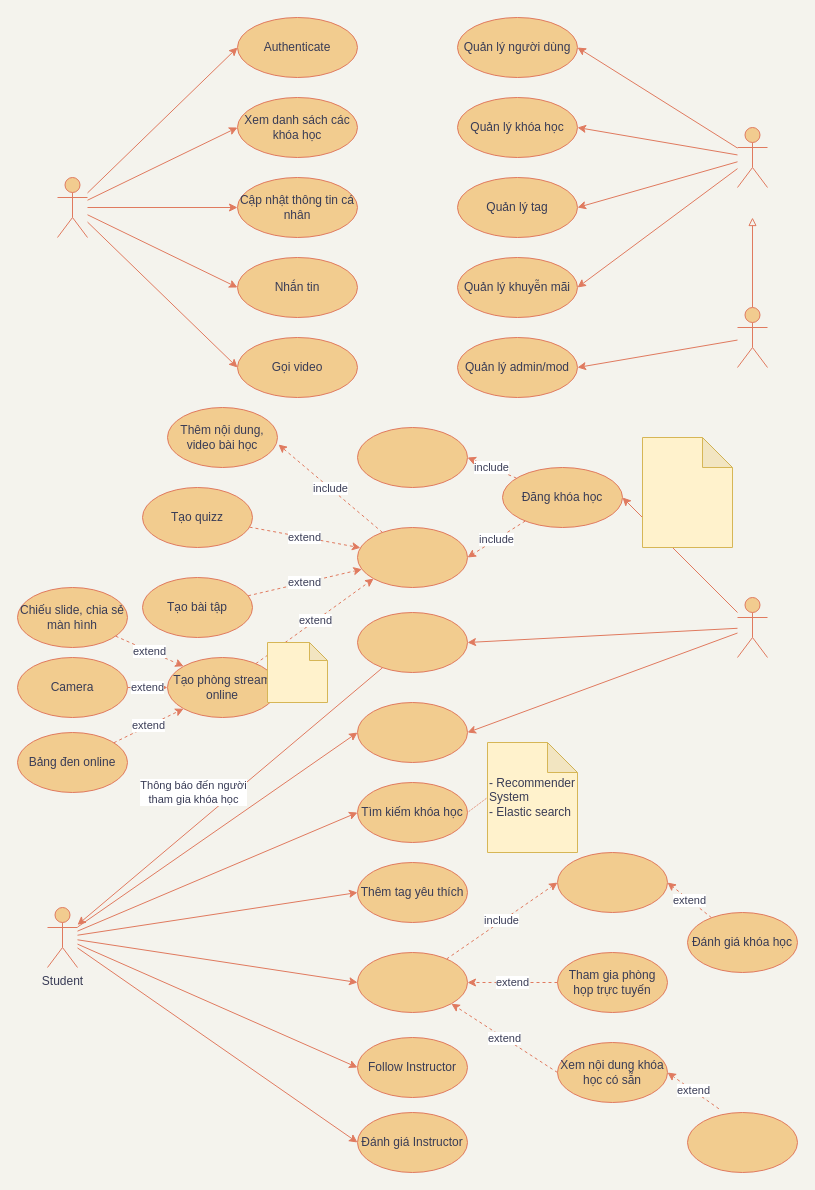
Some shapes in this 815 by 1190 pixel diagram are drawn without their labels. The shapes that lost their labels are listed below. From the top down, each one's centre as x and y in pixels, then its label:
At (752,157): "Moderator".
At (72,207): "User".
At (752,337): "Administrator".
At (412,457): "Thêm tag".
At (687,492): "Khóa học: - Full stream - Recorded - Mix".
At (412,557): "Tạo các bài học".
At (412,642): "Đặt lịch stream/call".
At (752,627): "Instructor".
At (297,672): "WebRTC".
At (412,732): "Gửi tài nguyên vào khóa học".
At (612,882): "Mua khóa học".
At (412,982): "Học khóa học".
At (742,1142): "Note".
